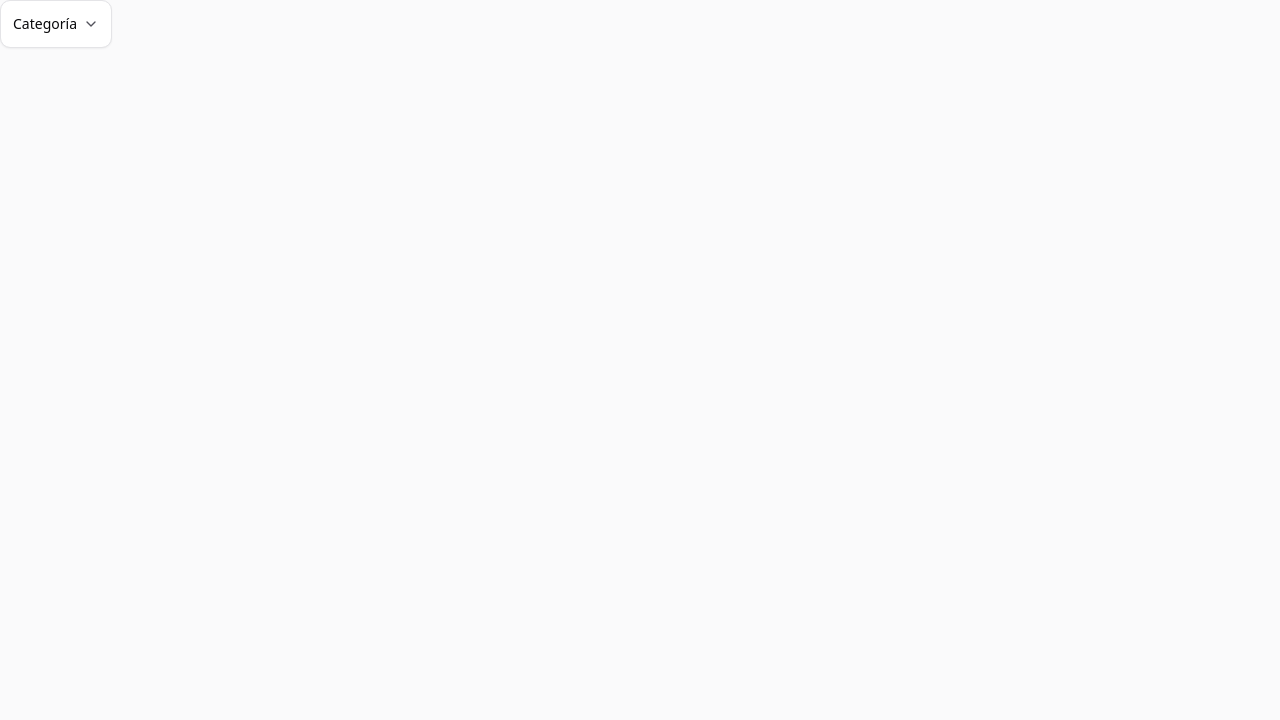
Test case: Filtro › el conteo de cada opción acompaña su nombre
Step 1. Click the button "Categoría" → [56, 24], box [0,0,112,48]
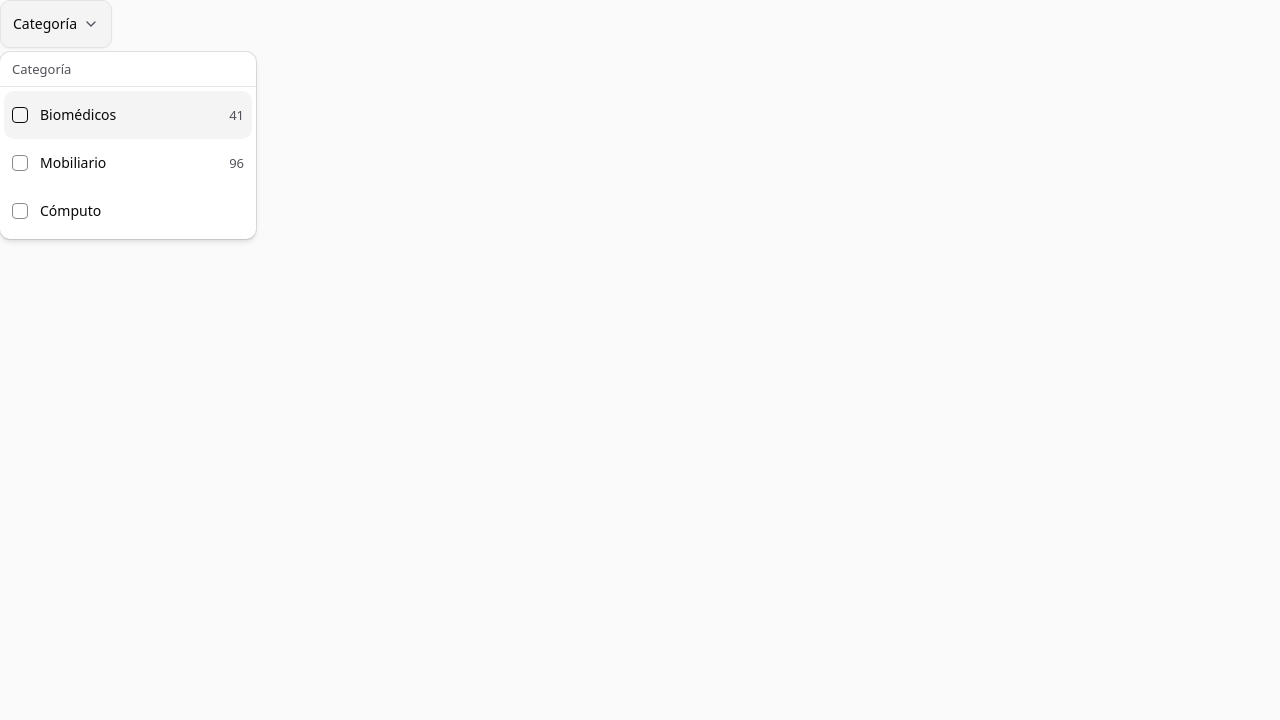
Expected: the checkbox named "Mobiliario (96)" next to "Mobiliario" is shown, [12,155,28,171]
